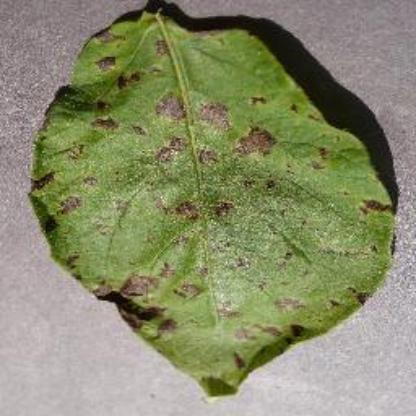Early-Blight: (24, 0, 405, 402)
